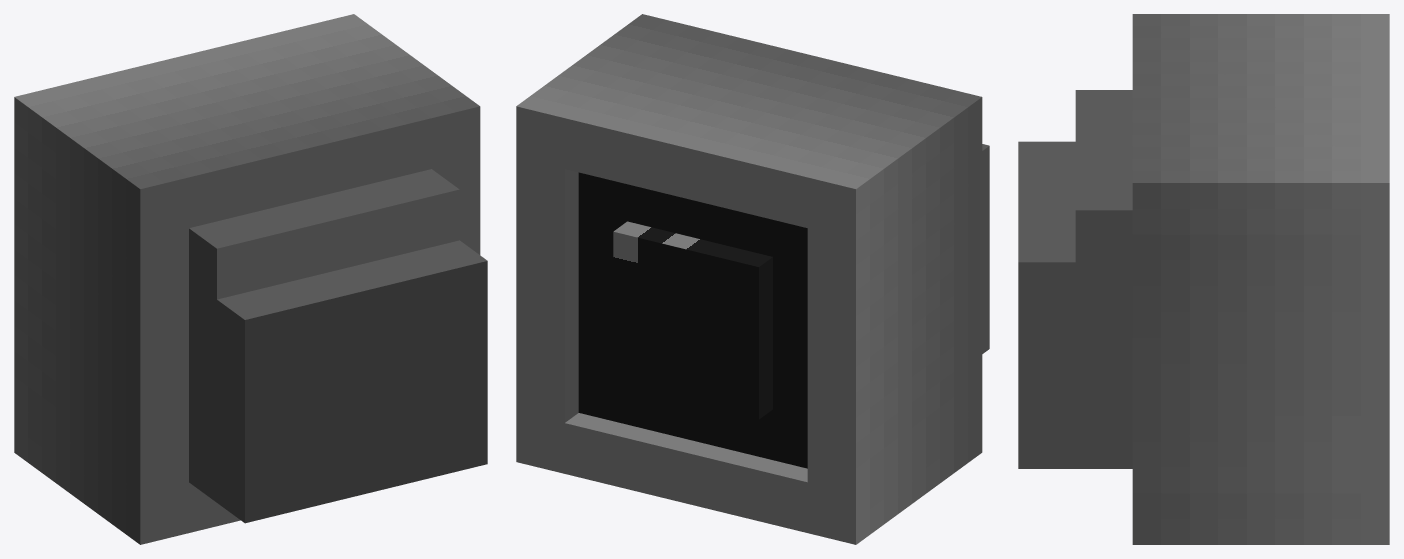
3 views of the same model, side by side, from view 1: azimuth 30°, elevation 25°; view 2: azimuth 150°, elevation 25°; view 3: azimuth 270°, elevation 25° (orthographic).
Visible parts, largest first — view 1: cube_5, cube_7, cube_3, cube_6, cube, cube_4; view 2: cube_5, cube_3, cube_1, cube, cube_2, cube_4, cube_7; view 3: cube_4, cube_5, cube_6, cube_7, cube.
Boxes of the visible parts, bbox=[...] form: cube_5: bbox=[14, 14, 480, 239]; cube_7: bbox=[217, 240, 487, 523]; cube_3: bbox=[14, 148, 188, 493]; cube_6: bbox=[189, 169, 459, 502]; cube: bbox=[14, 402, 240, 544]; cube_4: bbox=[432, 157, 480, 254]; cube_5: bbox=[516, 14, 982, 239]; cube_3: bbox=[807, 148, 982, 493]; cube_1: bbox=[578, 172, 807, 468]; cube: bbox=[516, 402, 982, 544]; cube_2: bbox=[613, 221, 772, 419]; cube_4: bbox=[516, 157, 578, 422]; cube_7: bbox=[982, 144, 989, 353]; cube_4: bbox=[1132, 234, 1389, 493]; cube_5: bbox=[1132, 14, 1389, 234]; cube_6: bbox=[1075, 90, 1132, 468]; cube_7: bbox=[1018, 141, 1075, 468]; cube: bbox=[1132, 493, 1389, 544].
Bounding box in the file's own units: 87.5 × 87.5 × 81.25.
1 material, 1 textured.
